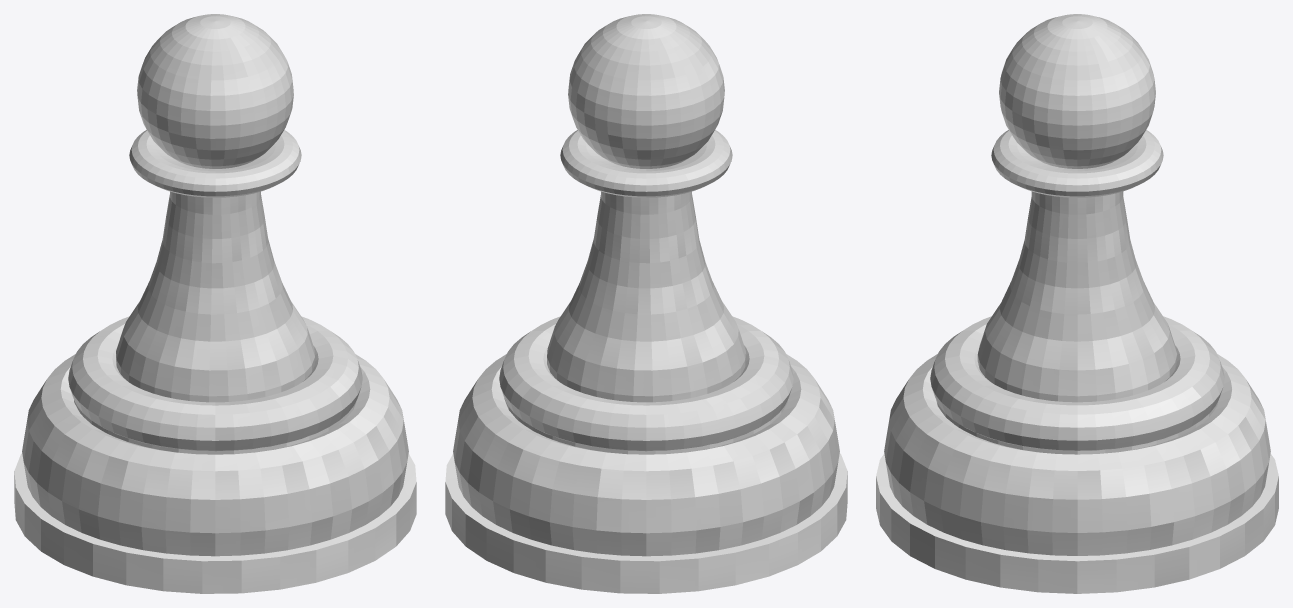
File: Pawn.fbx
The picture shows the model from 3 angles, left to right: view 1: azimuth 30°, elevation 25°; view 2: azimuth 150°, elevation 25°; view 3: azimuth 270°, elevation 25°; orthographic projection.
Visible parts, largest first — view 1: PawnWhite; view 2: PawnWhite; view 3: PawnWhite.
Boxes of the visible parts, x1,y1,x2,y2 form: PawnWhite: (14,14,416,593); PawnWhite: (445,14,847,593); PawnWhite: (876,14,1278,593).
Bounding box in the file's own units: 81.42 × 110 × 81.42.
